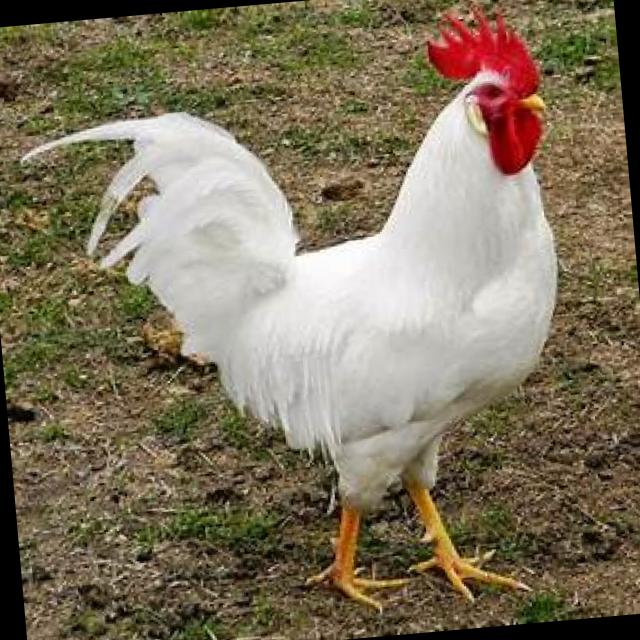chicken: (13, 1, 585, 634)
